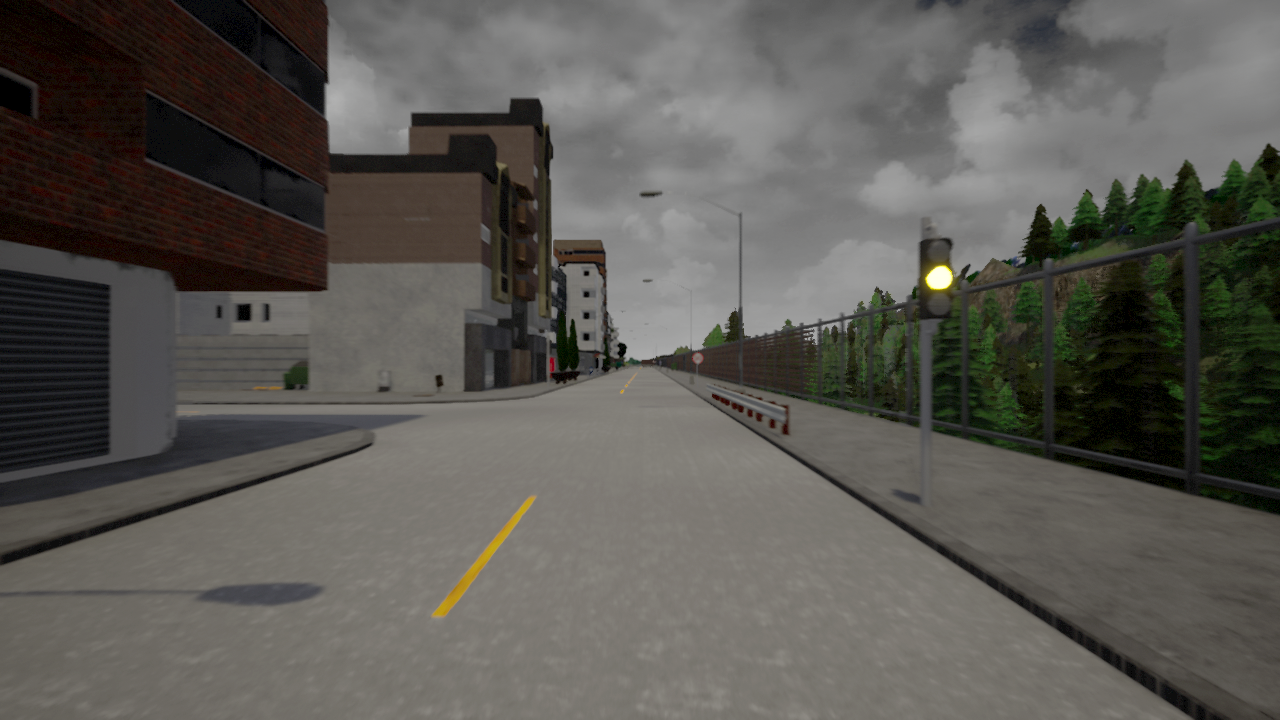yellow: (917, 233, 957, 321)
